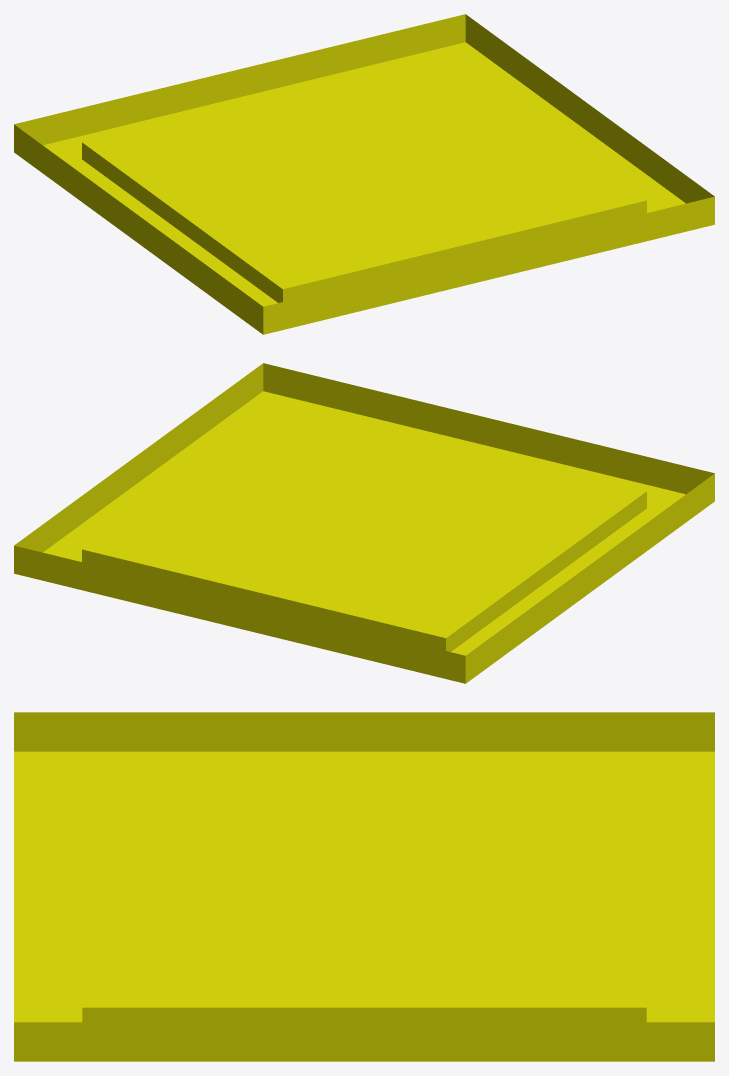
File: Roof.fbx
3 views of the same model, one above another, from view 1: azimuth 30°, elevation 25°; view 2: azimuth 150°, elevation 25°; view 3: azimuth 270°, elevation 25° (orthographic). The views are drawn at different scales.
Parts seen in each view (by area): view 1: Roof; view 2: Roof; view 3: Roof.
Part boxes in pixels (bbox=[...]): Roof: bbox=[14, 14, 714, 334]; Roof: bbox=[14, 363, 714, 683]; Roof: bbox=[14, 712, 714, 1061].
Bounding box in the file's own units: 442 × 26.26 × 422.
